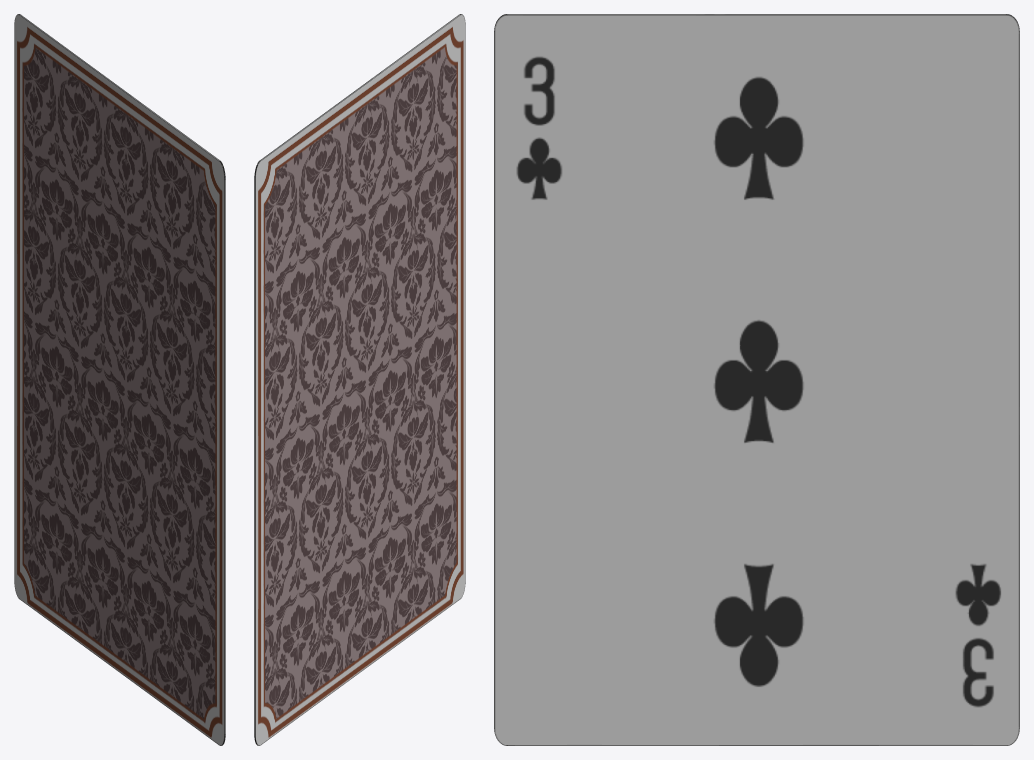
The model's file is clover3.glb.
The picture shows the model from 3 angles, left to right: view 1: azimuth 30°, elevation 25°; view 2: azimuth 150°, elevation 25°; view 3: azimuth 270°, elevation 25°; orthographic projection. The views are drawn at different scales.
Visible parts, largest first — view 1: Cube; view 2: Cube; view 3: Cube.
Part boxes in pixels (x1,y1,x2,y2): Cube: [14, 14, 225, 745]; Cube: [254, 14, 465, 745]; Cube: [494, 14, 1019, 745].
Bounding box in the file's own units: 0.036 × 17.8 × 11.6.
1 material, 1 textured.
